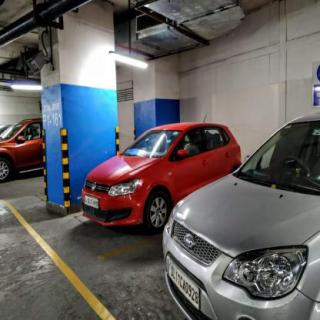Normal_vehicle: (82, 122, 241, 231)
